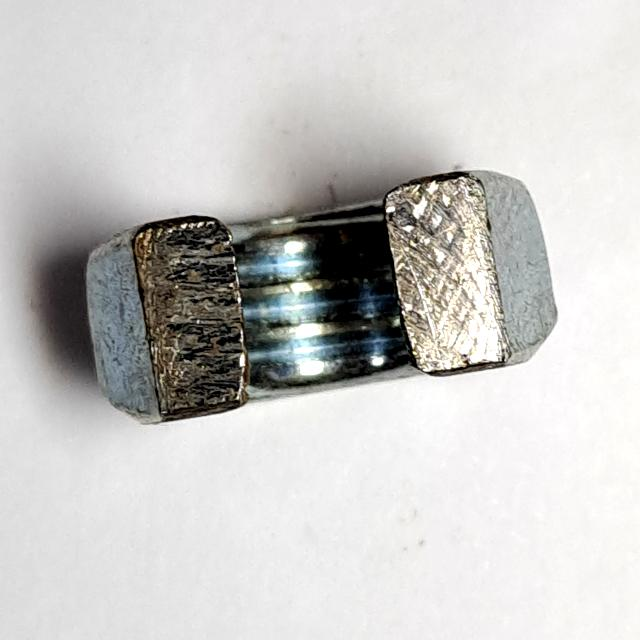Side-Fracture: (70, 158, 569, 446)
